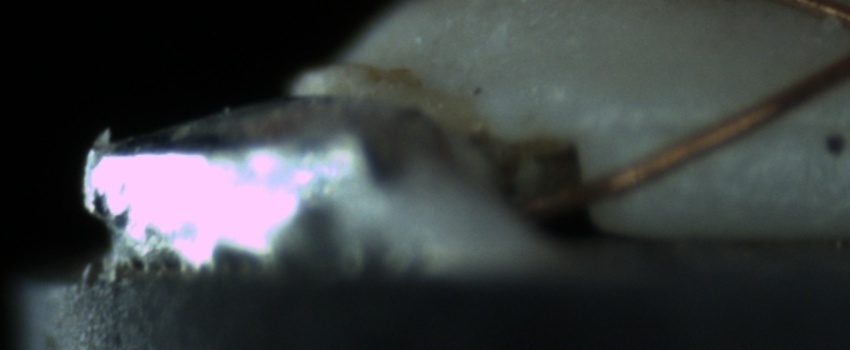DL: (617, 96, 847, 153)
